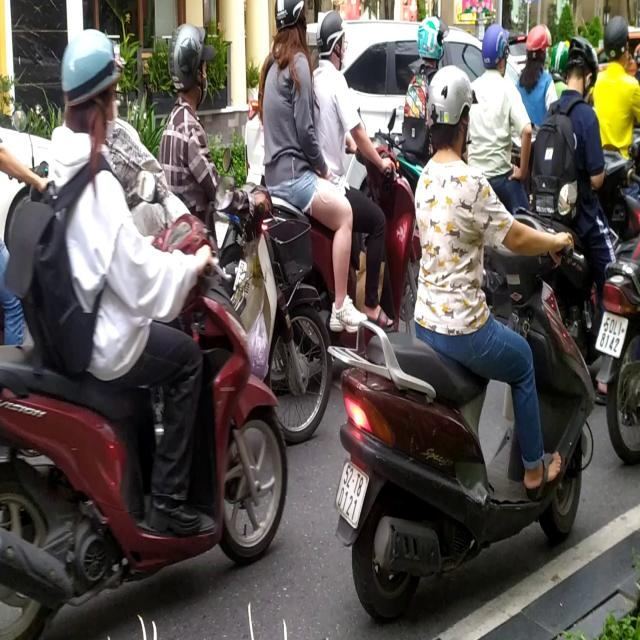bien_trang: (330, 451, 370, 527), (596, 306, 628, 357)
